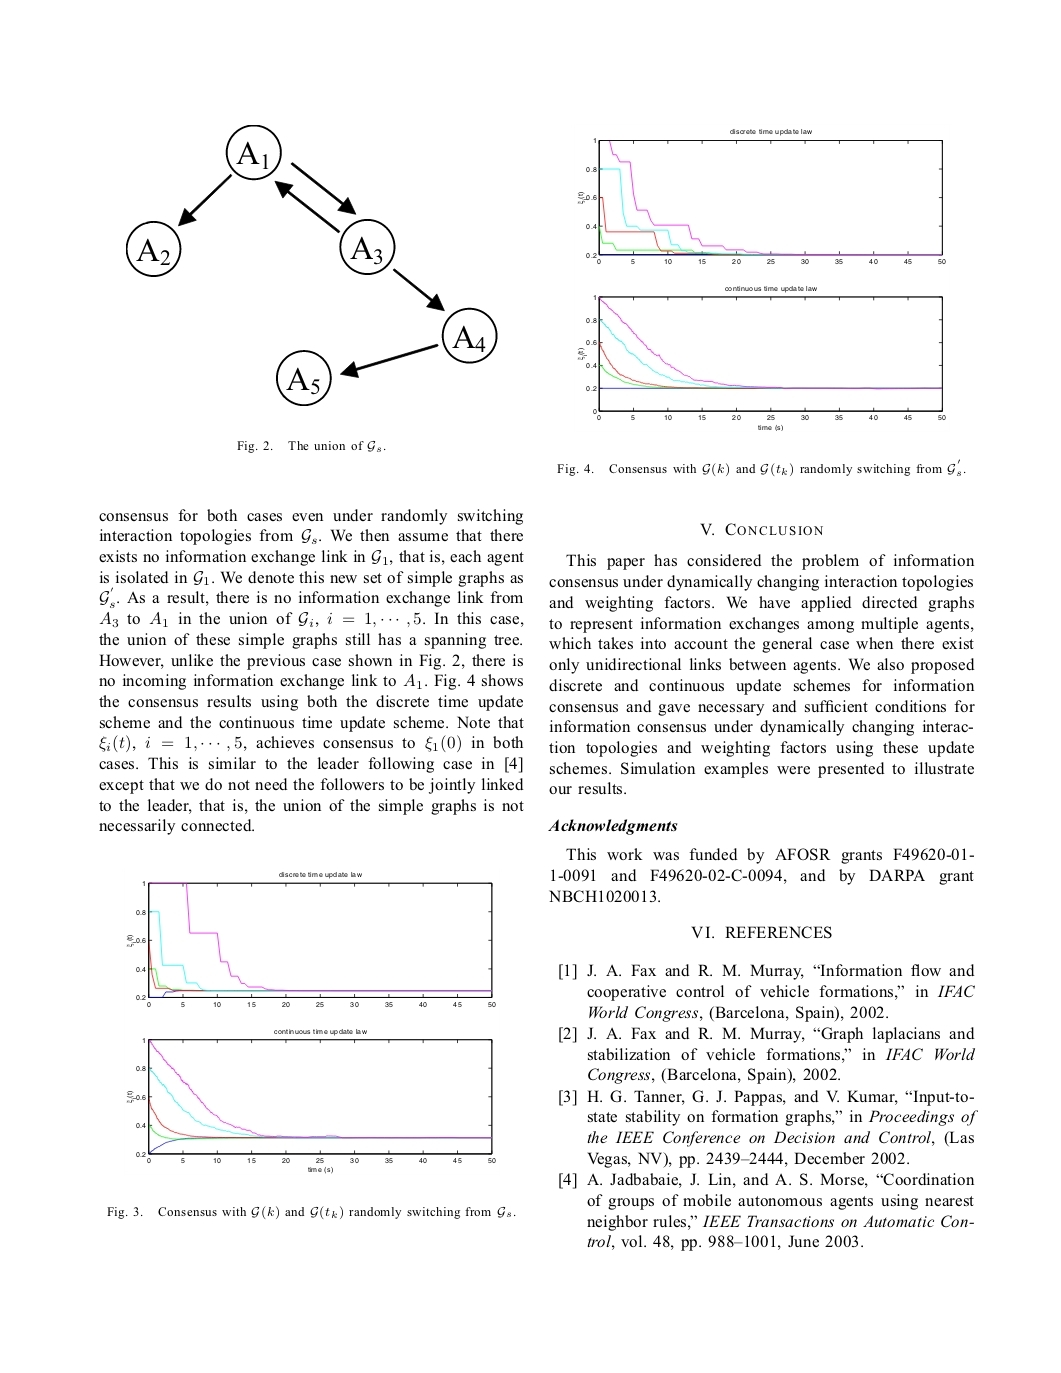figure: (126, 124, 497, 406), (577, 285, 945, 420), (126, 880, 495, 1007), (577, 137, 945, 264), (126, 1038, 495, 1163)
